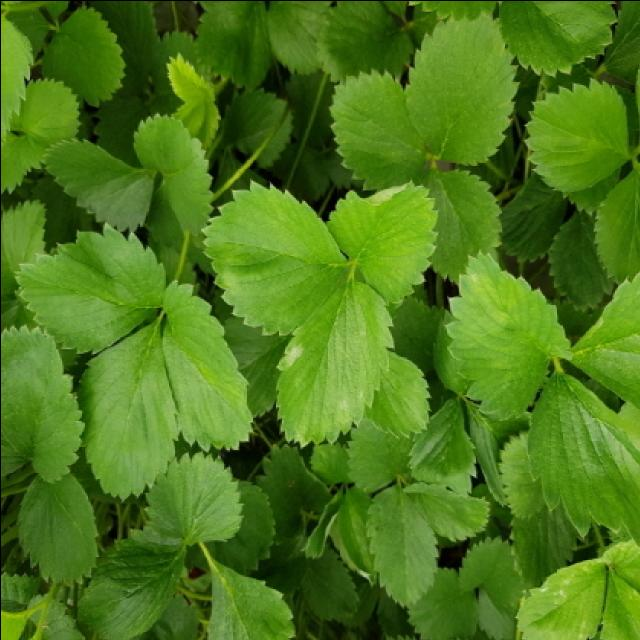Powdery Mildew Leaf: (273, 280, 393, 449), (325, 180, 438, 303)
